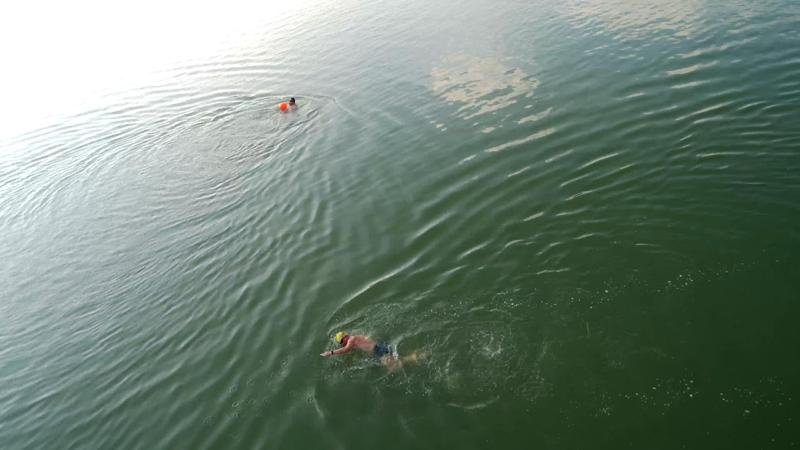swimmers: (320, 331, 418, 372), (278, 96, 298, 112)
